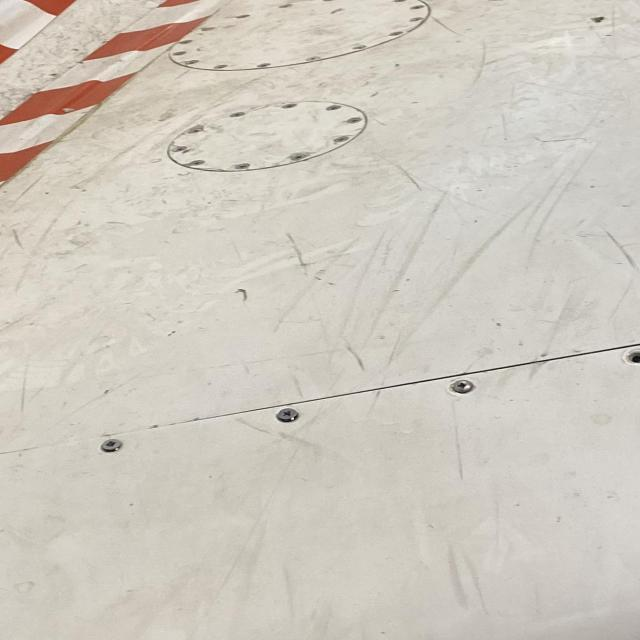Missing-head: (627, 349, 640, 365)
